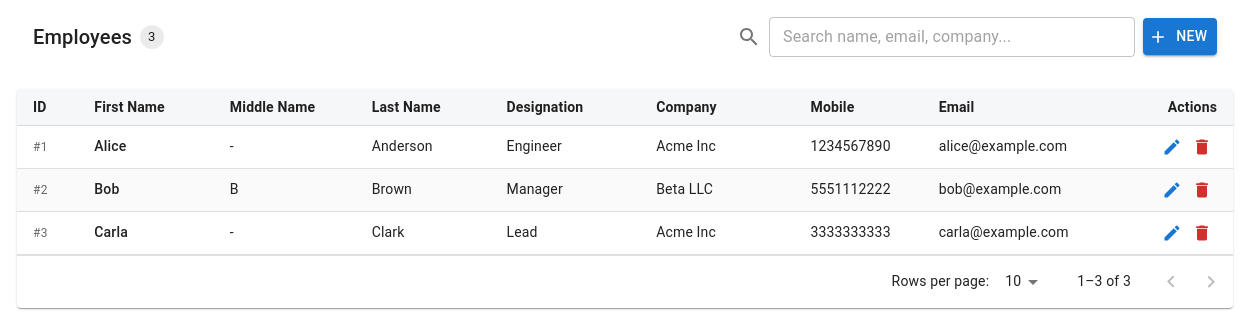
Test: IndexEmployee › filters by search text
Expected: the text "Alice" is shown, x1=94 y1=138 x2=126 y2=154
Type "beta" into the field with placeholder "Search name, email, company..." at x=952, y=36, box x1=769 y1=16 x2=1135 y2=56
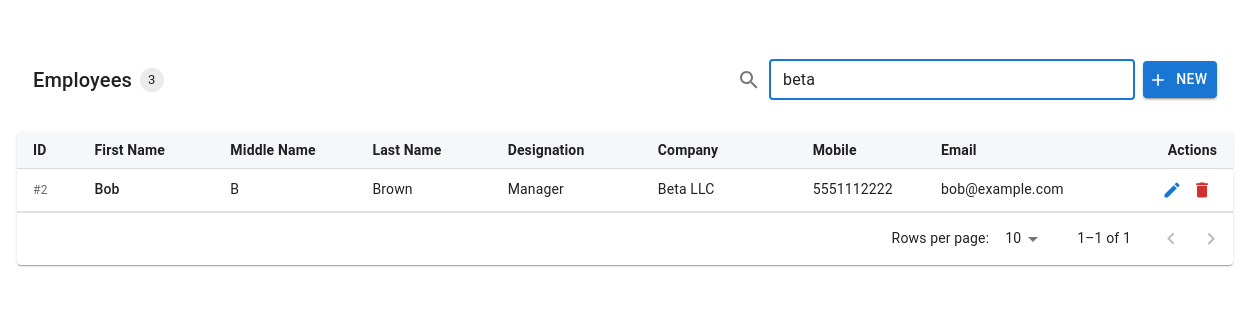
Expected: the text "Bob" is shown, x1=94 y1=182 x2=120 y2=198
Result: the text "Alice" is gone
